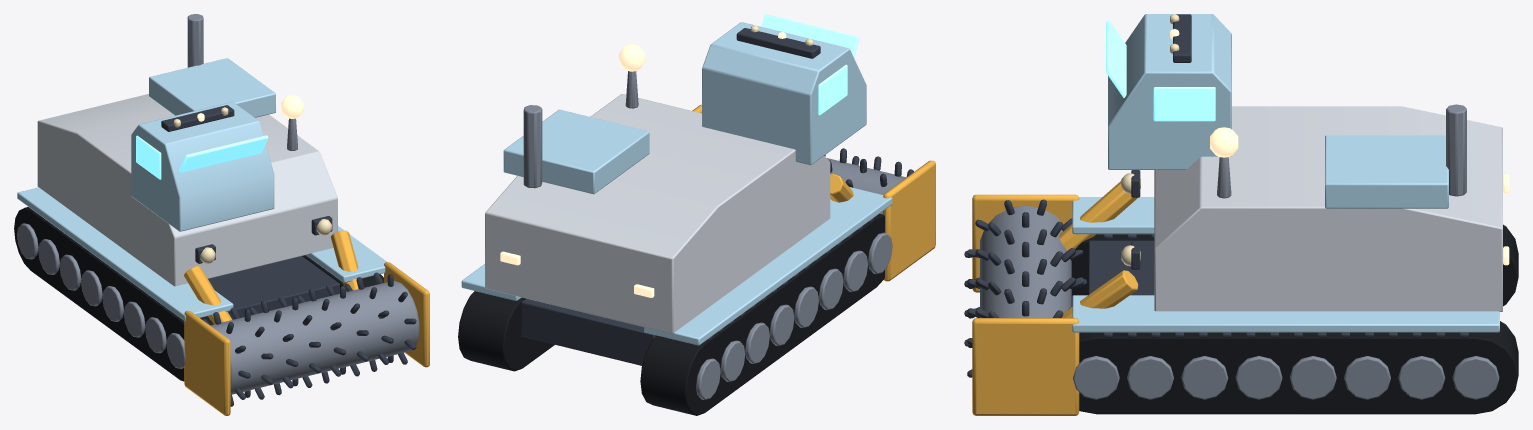
Rendered from eisfraese.fbx.
3 views of the same model, side by side, from view 1: azimuth 30°, elevation 25°; view 2: azimuth 150°, elevation 25°; view 3: azimuth 270°, elevation 25° (orthographic). The views are drawn at different scales.
Visible parts, largest first — view 1: eisfraese_Koerper, eisfraese_Werkzeug; view 2: eisfraese_Koerper, eisfraese_Werkzeug; view 3: eisfraese_Koerper, eisfraese_Werkzeug.
Part boxes in pixels (box(x1,y1,x2,y2)): eisfraese_Koerper: box(14, 14, 386, 381); eisfraese_Werkzeug: box(184, 262, 429, 415); eisfraese_Koerper: box(458, 14, 892, 415); eisfraese_Werkzeug: box(692, 104, 935, 281); eisfraese_Koerper: box(1059, 14, 1518, 414); eisfraese_Werkzeug: box(964, 194, 1086, 415).
Size of the model in its own units: 1.97 by 2.16 by 3.58.
